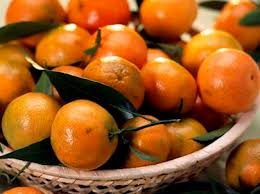orange: (50, 96, 118, 167), (196, 47, 259, 114), (138, 51, 198, 117), (83, 54, 145, 116), (1, 93, 61, 156), (119, 114, 171, 168), (35, 24, 90, 67)
